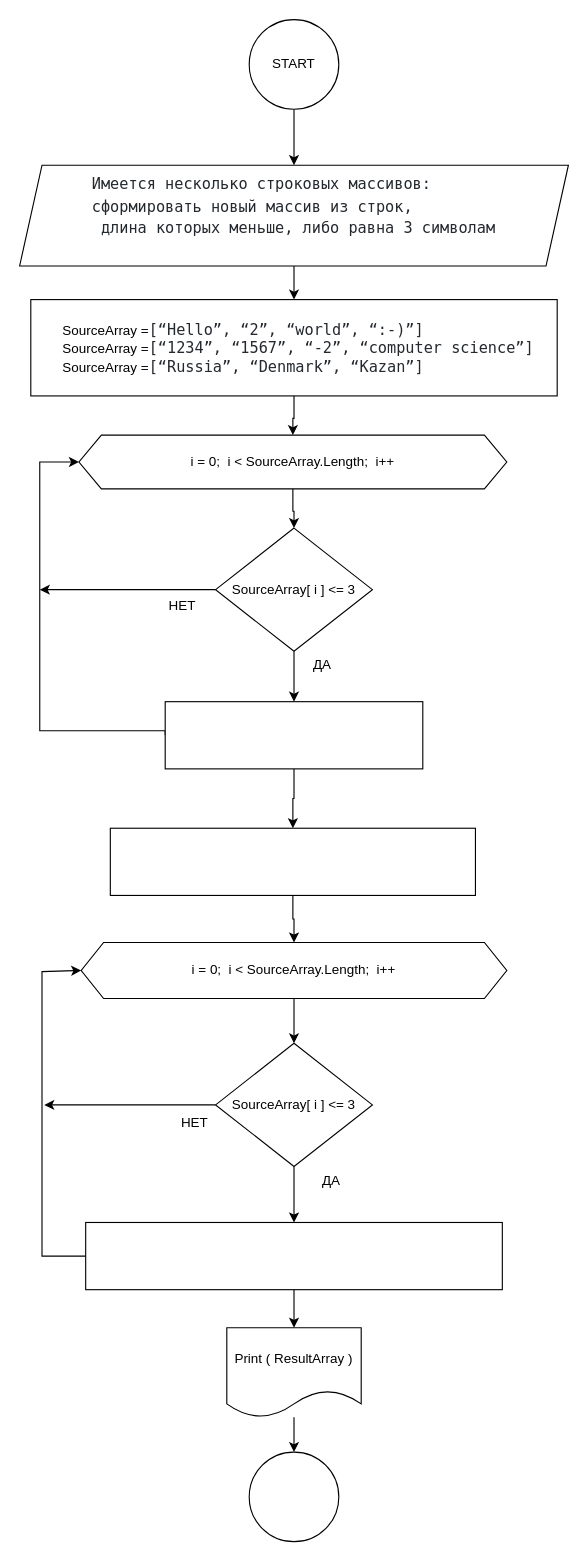
The diagram is 588 pixels wide and 1561 high, and some of its shapes have lost their labels. Here are the shapes that lost their labels. From the top down, the centre of each, then its label:
At [293,735]: "Short_Strings_Count ++".
At [292,861]: "j = 0 ResultArray = new string [Short_Strings_count]".
At [293,1255]: "ResultArray [ j ] = SourceArray [ i ] j++".
At [293,1496]: "END".
